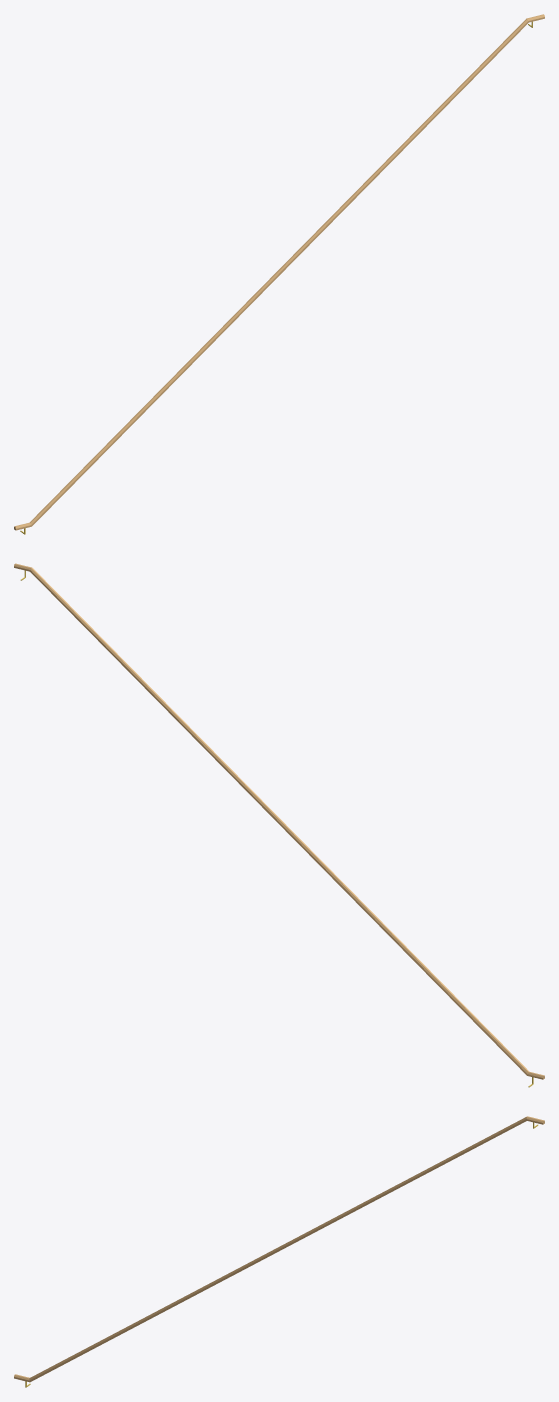
The model's file is sweethome3d-contributions-rail.glb.
The picture shows the model from 3 angles, top to bottom: view 1: azimuth 30°, elevation 25°; view 2: azimuth 150°, elevation 25°; view 3: azimuth 330°, elevation 25°; orthographic projection.
Visible parts, largest first — view 1: 1_1; view 2: 1_1; view 3: 1_1.
Boxes of the visible parts, x1,y1,x2,y2 form: 1_1: (14,14,544,530); 1_1: (14,563,544,1079); 1_1: (14,1116,544,1382).
Bounding box in the file's own units: 330 × 234 × 5.99.
